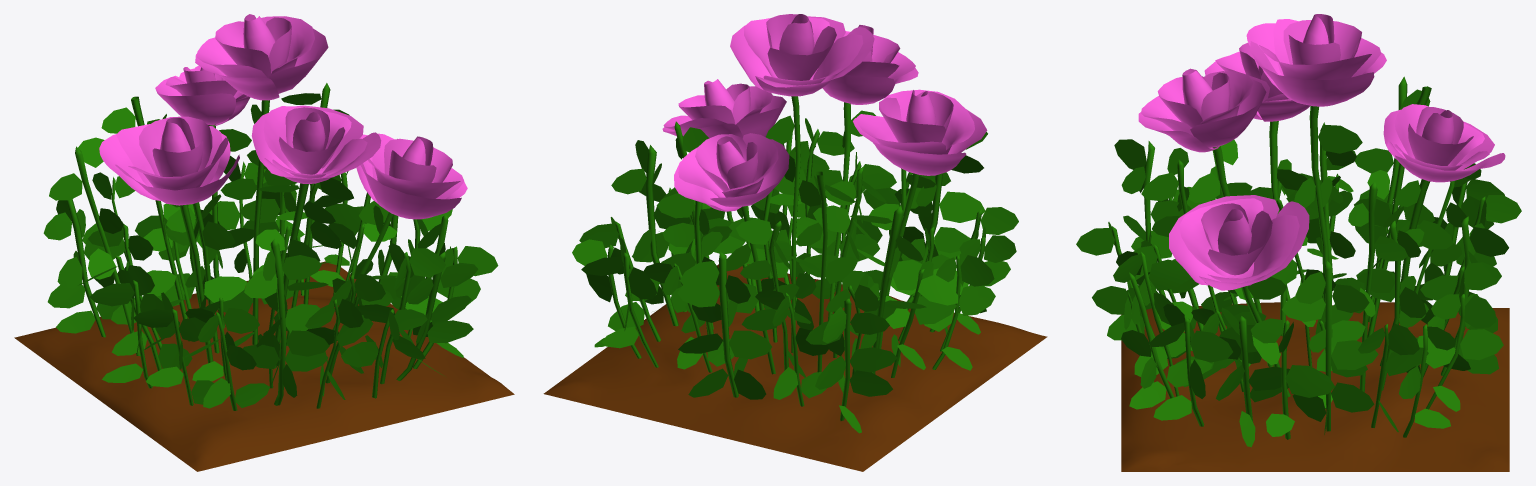
File: pink-rose-p3-bloom.glb
3 views of the same model, side by side, from view 1: azimuth 30°, elevation 25°; view 2: azimuth 150°, elevation 25°; view 3: azimuth 270°, elevation 25° (orthographic). The views are drawn at different scales.
Parts seen in each view (by area): view 1: 3_nft_bloom; view 2: 3_nft_bloom; view 3: 3_nft_bloom.
Part boxes in pixels (<box>): 3_nft_bloom: <box>14,14,514,471</box>; 3_nft_bloom: <box>543,14,1047,471</box>; 3_nft_bloom: <box>1076,14,1521,471</box>.
Bounding box in the file's own units: 0.7993 × 0.7387 × 0.8042.
